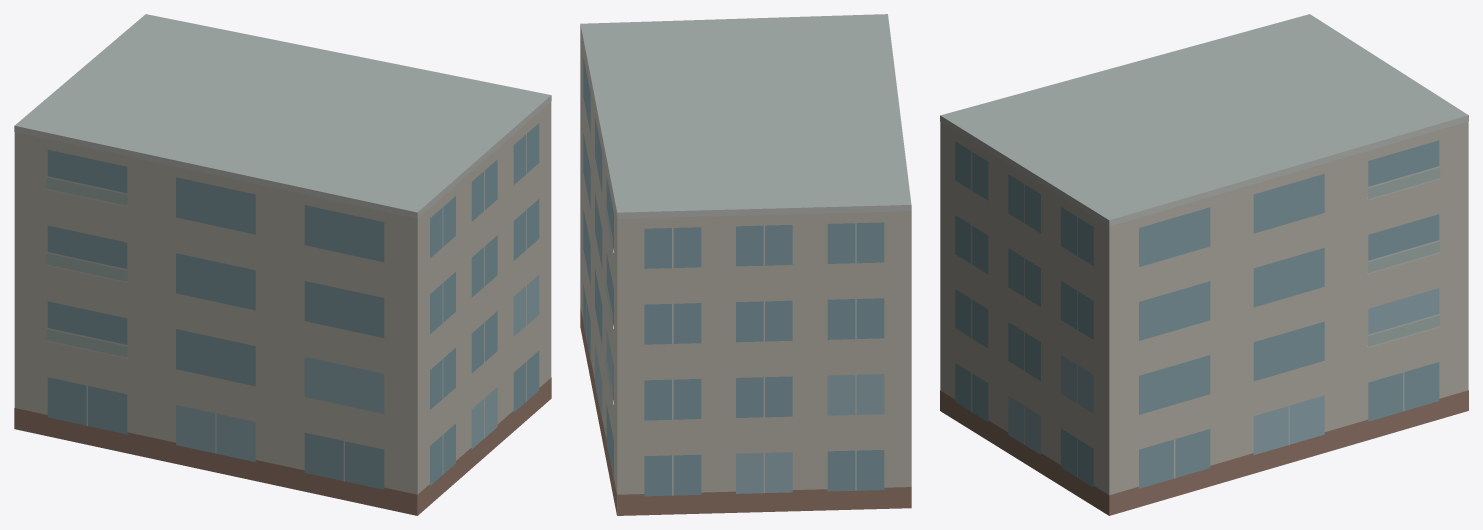
The model's file is survey-upis-32807226.glb.
3 views of the same model, side by side, from view 1: azimuth 30°, elevation 25°; view 2: azimuth 150°, elevation 25°; view 3: azimuth 270°, elevation 25° (orthographic). The views are drawn at different scales.
Parts seen in each view (by area): view 1: survey-upis-32807226.tmp; view 2: survey-upis-32807226.tmp; view 3: survey-upis-32807226.tmp.
Part boxes in pixels (left/top/right/bottom): survey-upis-32807226.tmp: left=14, top=14, right=551, bottom=515; survey-upis-32807226.tmp: left=580, top=14, right=911, bottom=515; survey-upis-32807226.tmp: left=940, top=14, right=1468, bottom=515.
Size of the model in its own units: 17.75 by 11.85 by 19.22.
